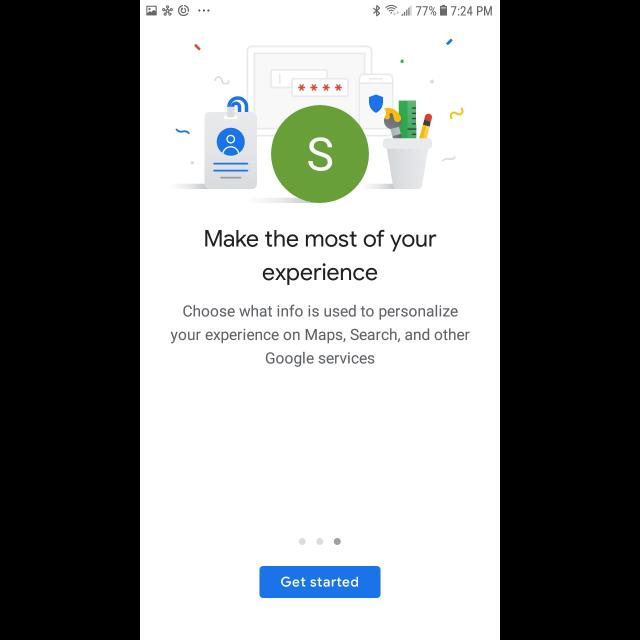image: (176, 38, 464, 204)
pageindicator: (298, 538, 342, 546)
text: (170, 304, 470, 368), (205, 230, 437, 252), (262, 263, 378, 285)
textbutton: (260, 566, 380, 598)
uppertaskbar: (140, 1, 500, 18)
